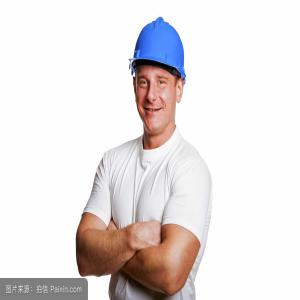blue: (130, 18, 187, 131)
